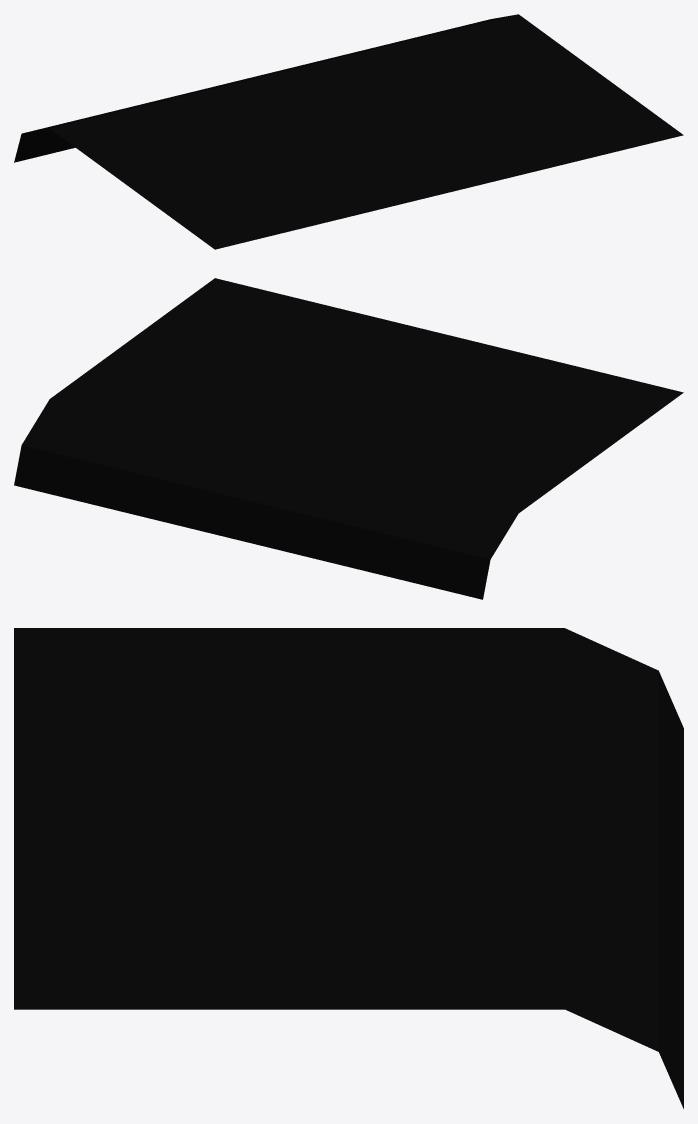
The model's file is SM_TOIT_Locomotive.fbx.
The picture shows the model from 3 angles, top to bottom: view 1: azimuth 30°, elevation 25°; view 2: azimuth 150°, elevation 25°; view 3: azimuth 270°, elevation 25°; orthographic projection. The views are drawn at different scales.
Parts seen in each view (by area): view 1: polySurface1478; view 2: polySurface1478; view 3: polySurface1478.
Boxes of the visible parts, left/top/right/bottom form: polySurface1478: left=14, top=14, right=683, bottom=249; polySurface1478: left=14, top=278, right=683, bottom=599; polySurface1478: left=14, top=628, right=683, bottom=1108.
Bounding box in the file's own units: 2.55 × 0.3126 × 1.89.
1 material, 1 textured.
